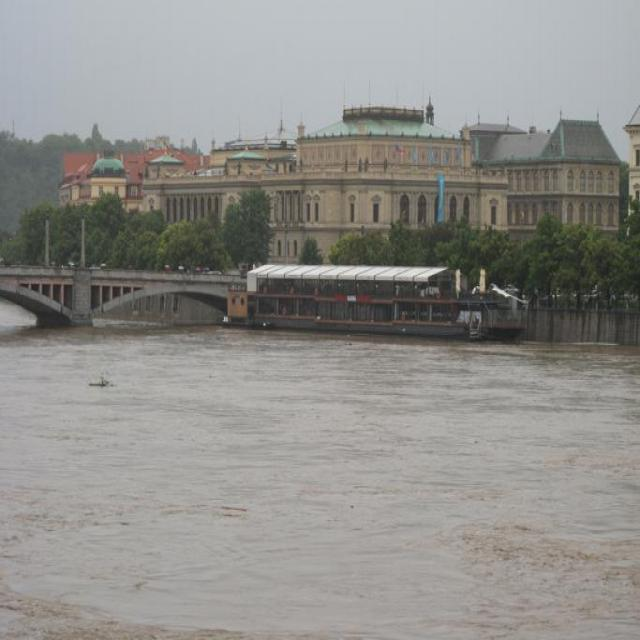flood: (1, 301, 640, 640)
